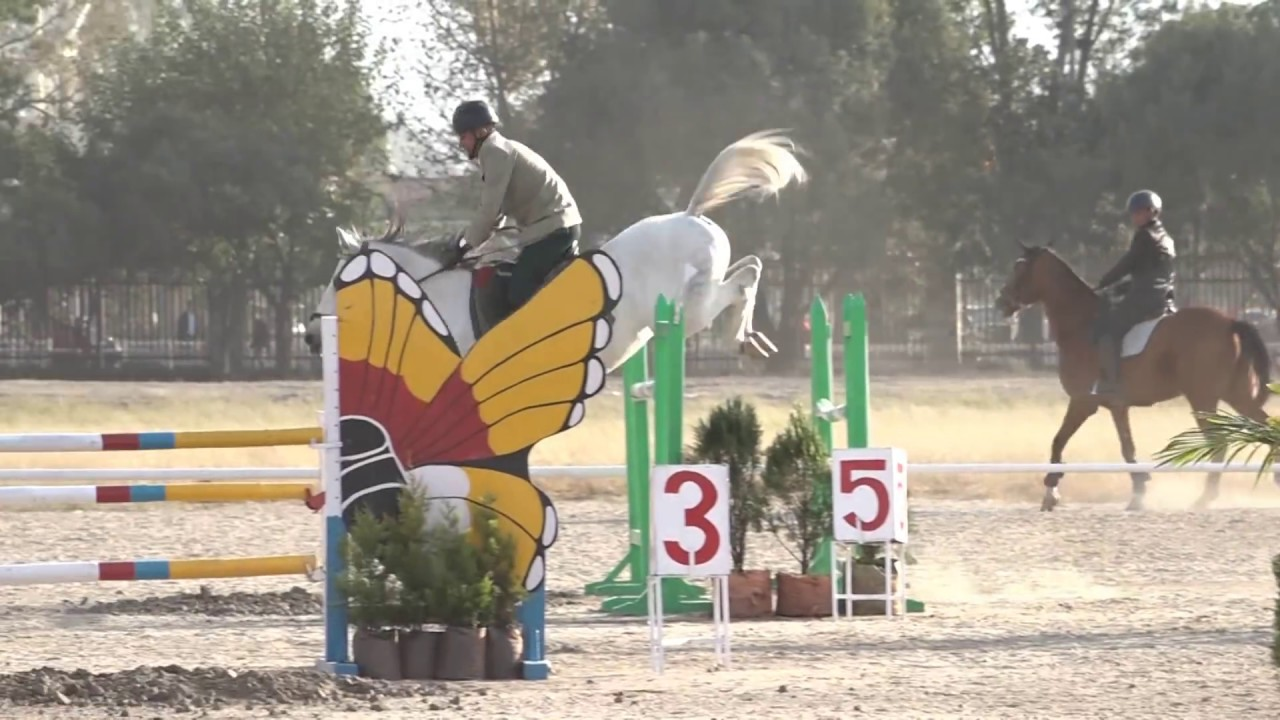human: (414, 82, 590, 330)
